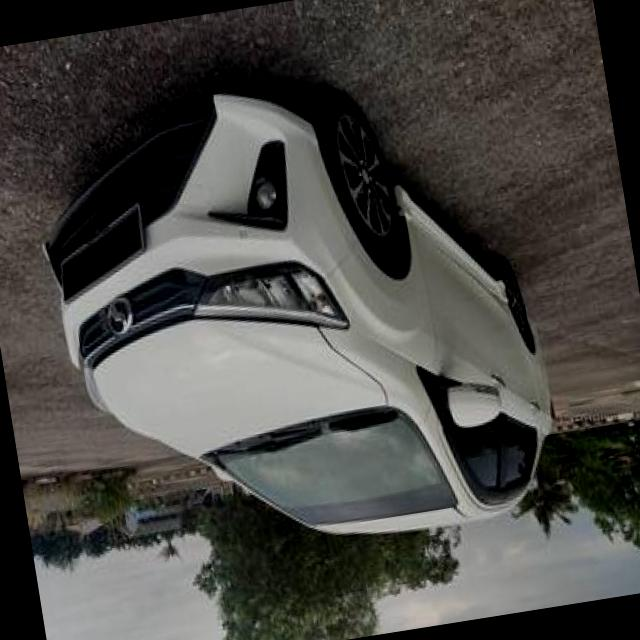PeroduaBezza: (22, 48, 570, 586)
